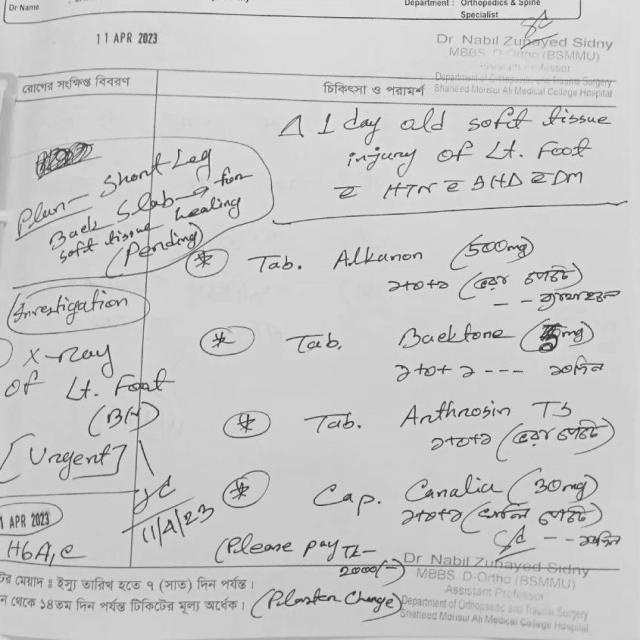medicine: (394, 315, 511, 357), (396, 394, 518, 429), (394, 468, 504, 504), (326, 240, 431, 274)
